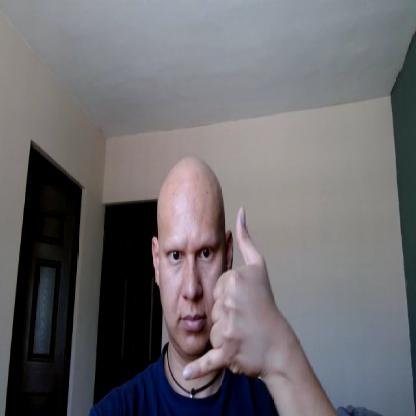Y: (184, 205, 276, 379)
